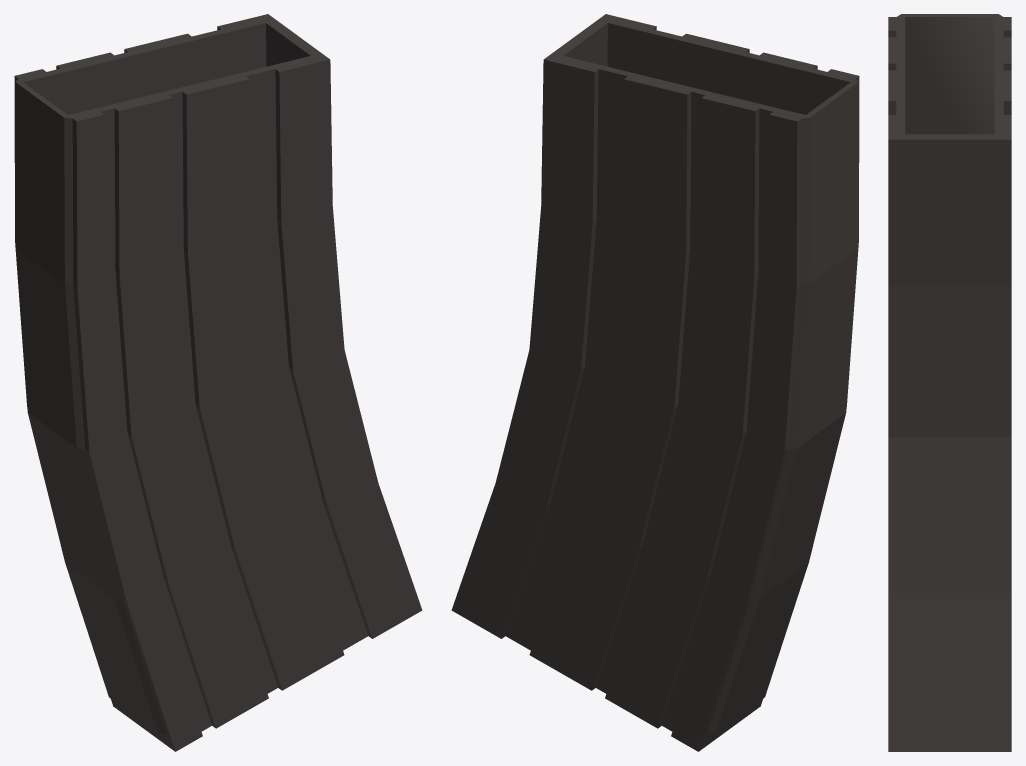
File: AssaultRifle4_03_2.fbx
3 renders of one model, left to right at view 1: azimuth 30°, elevation 25°; view 2: azimuth 150°, elevation 25°; view 3: azimuth 270°, elevation 25°, orthographic.
Parts seen in each view (by area): view 1: AssaultRifle4_03_2; view 2: AssaultRifle4_03_2; view 3: AssaultRifle4_03_2.
Part boxes in pixels (box(x1,y1,x2,y2)): AssaultRifle4_03_2: box(14, 14, 422, 751); AssaultRifle4_03_2: box(451, 14, 859, 751); AssaultRifle4_03_2: box(888, 14, 1011, 751).
Bounding box in the file's own units: 0.0993 × 0.1767 × 0.0305.
